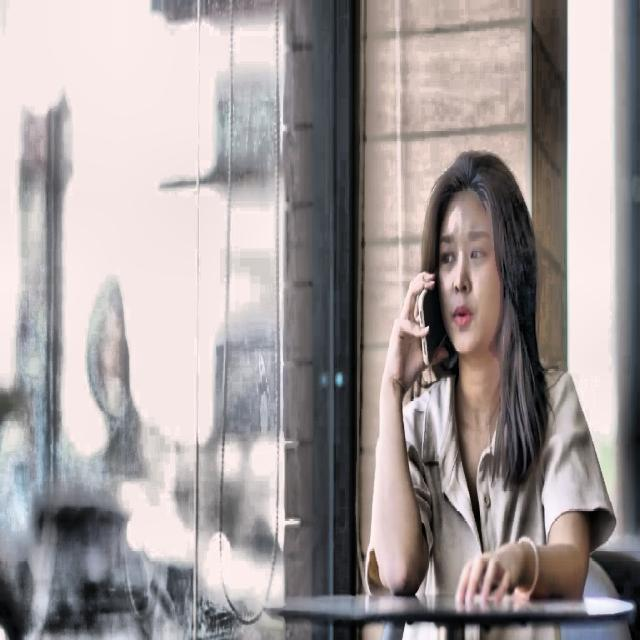Phone: (416, 268, 446, 370)
